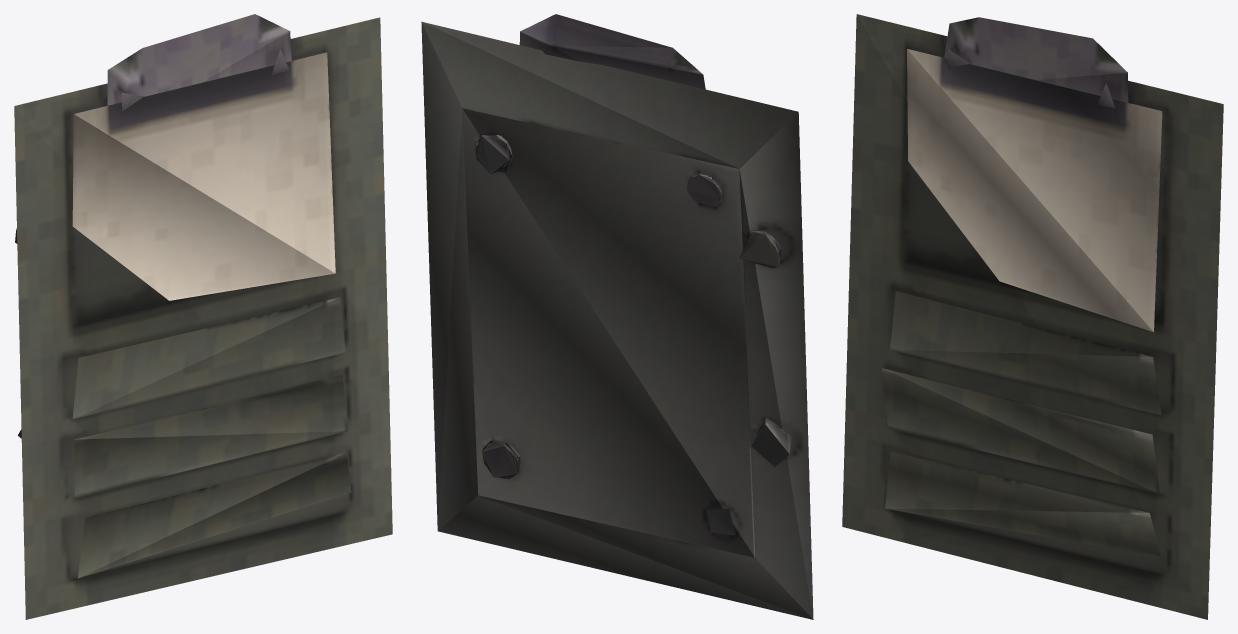
Rendered from PRP_SHIFT_CLIPBOARD.fbx.
The picture shows the model from 3 angles, left to right: view 1: azimuth 30°, elevation 25°; view 2: azimuth 150°, elevation 25°; view 3: azimuth 330°, elevation 25°; orthographic projection. The views are drawn at different scales.
Parts seen in each view (by area): view 1: PRP_SHIFT_CLIPBOARD_Body; view 2: PRP_SHIFT_CLIPBOARD_Body; view 3: PRP_SHIFT_CLIPBOARD_Body.
Part boxes in pixels (bbox=[...]): PRP_SHIFT_CLIPBOARD_Body: bbox=[14, 14, 392, 619]; PRP_SHIFT_CLIPBOARD_Body: bbox=[421, 14, 813, 619]; PRP_SHIFT_CLIPBOARD_Body: bbox=[842, 14, 1223, 619].
Bounding box in the file's own units: 23.35 × 32.91 × 3.26.
Materials: 1 (1 with a texture image).
